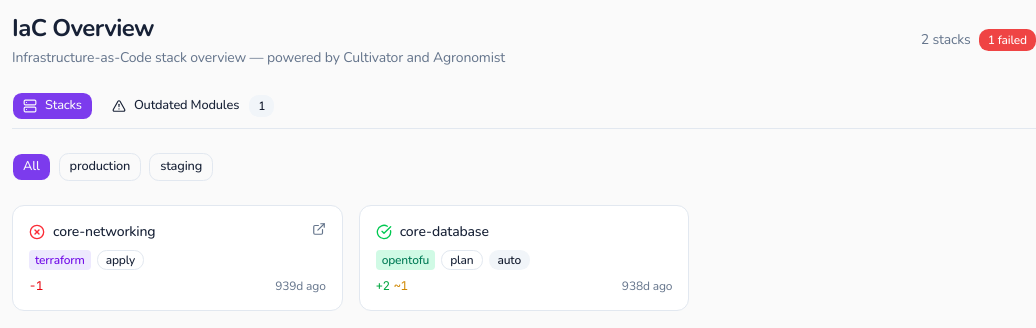
Test: IacDashboardClient › renders yellow indicator without alert icon when versionsBehind is 1
The image size is (1036, 328).
Expected: the text "core-networking" is shown, [53,222,155,242]
Click the button "Outdated Modules 1". click: (193, 106)
box: [101,92,285,120]
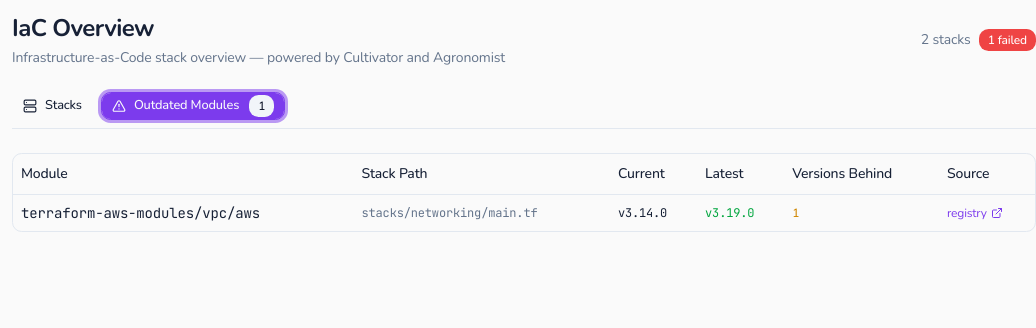
Expected: the text "terraform-aws-modules/vpc/aws" is shown, [13,194,354,230]
